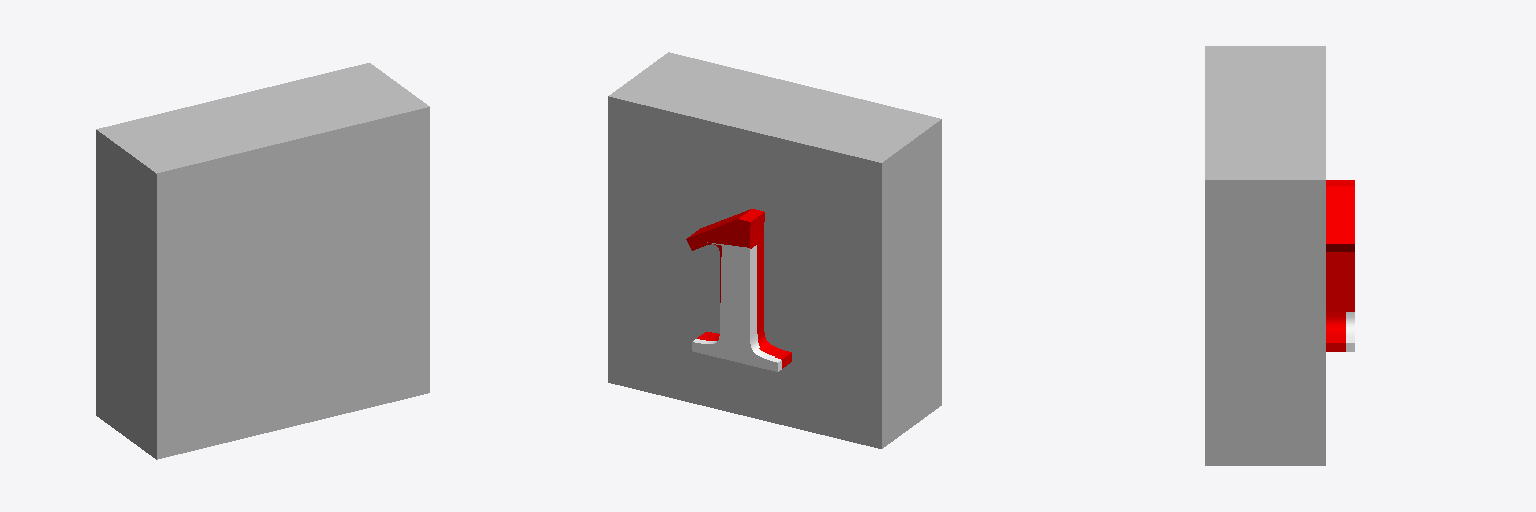
The picture shows the model from 3 angles: view 1: azimuth 30°, elevation 25°; view 2: azimuth 150°, elevation 25°; view 3: azimuth 270°, elevation 25°; orthographic projection.
Visible parts, largest first — view 1: テキスト; view 2: テキスト; view 3: テキスト.
Boxes of the visible parts, box(x1,y1,x2,y2) form: テキスト: box(96, 63, 429, 459); テキスト: box(608, 52, 941, 448); テキスト: box(1205, 46, 1354, 465).
Bounding box in the file's own units: 2 × 2 × 0.9446.
Materials: 2 (1 with a texture image).